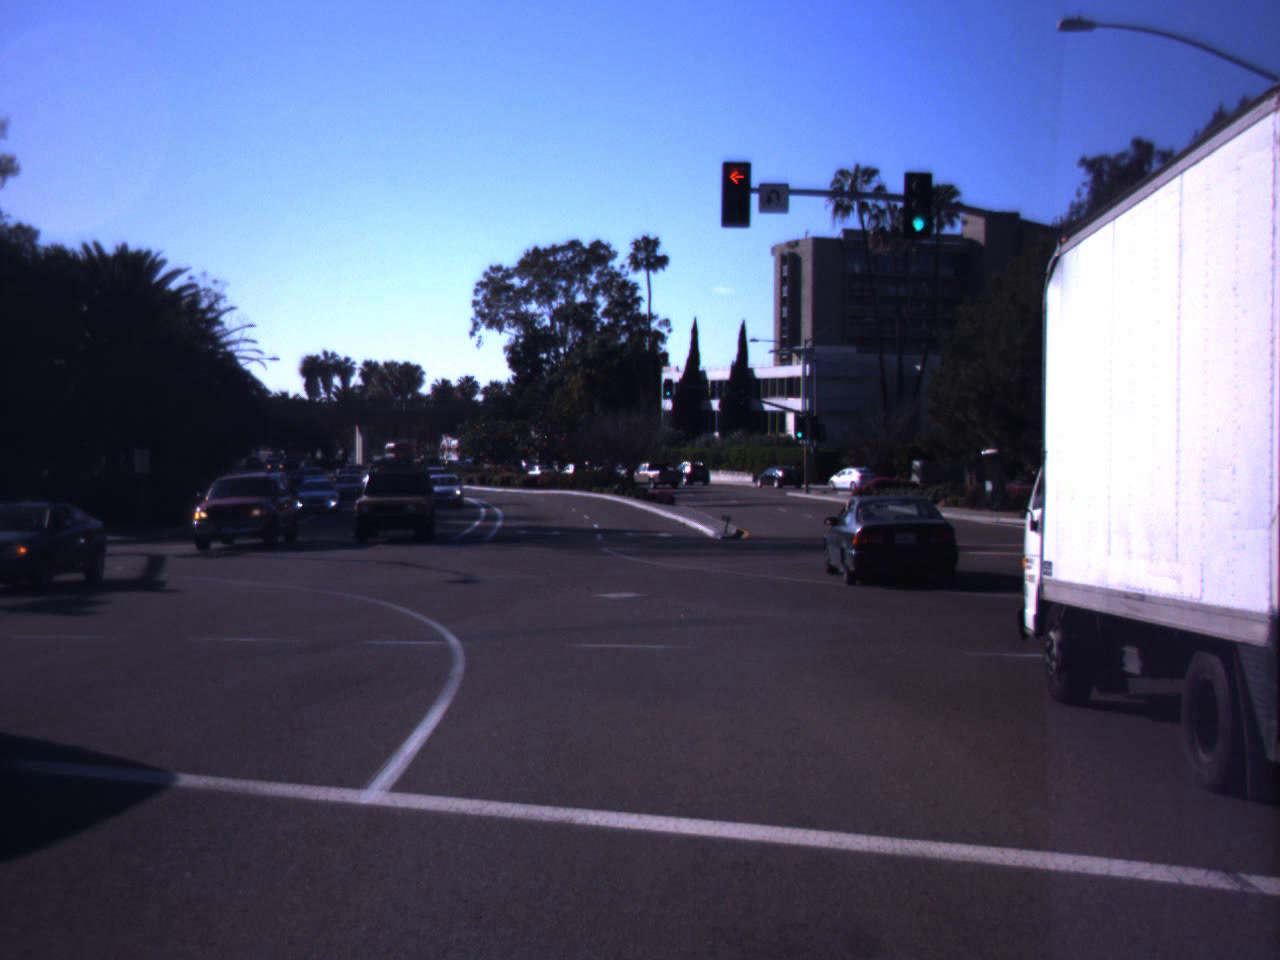go: (906, 189, 930, 234)
stop: (711, 162, 765, 225)
